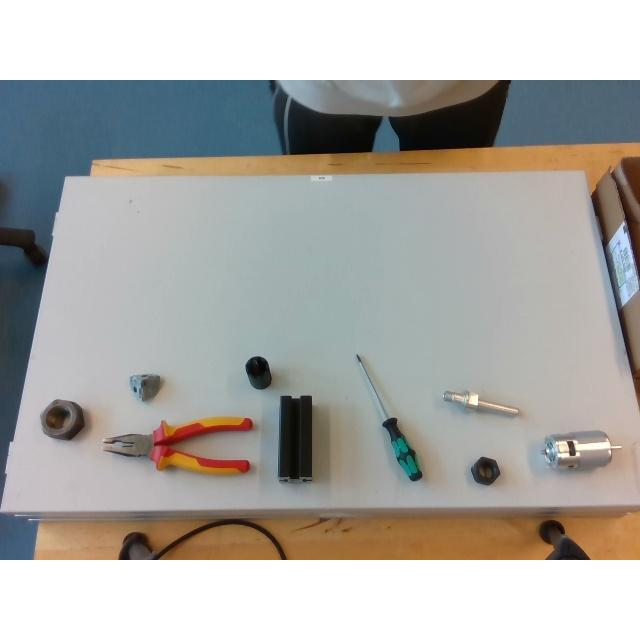M20: (470, 457, 500, 485)
M30: (40, 399, 84, 439)
Motor2: (544, 430, 620, 470)
S40_40_B: (278, 395, 310, 481)
Screwdriver: (353, 353, 422, 481)
